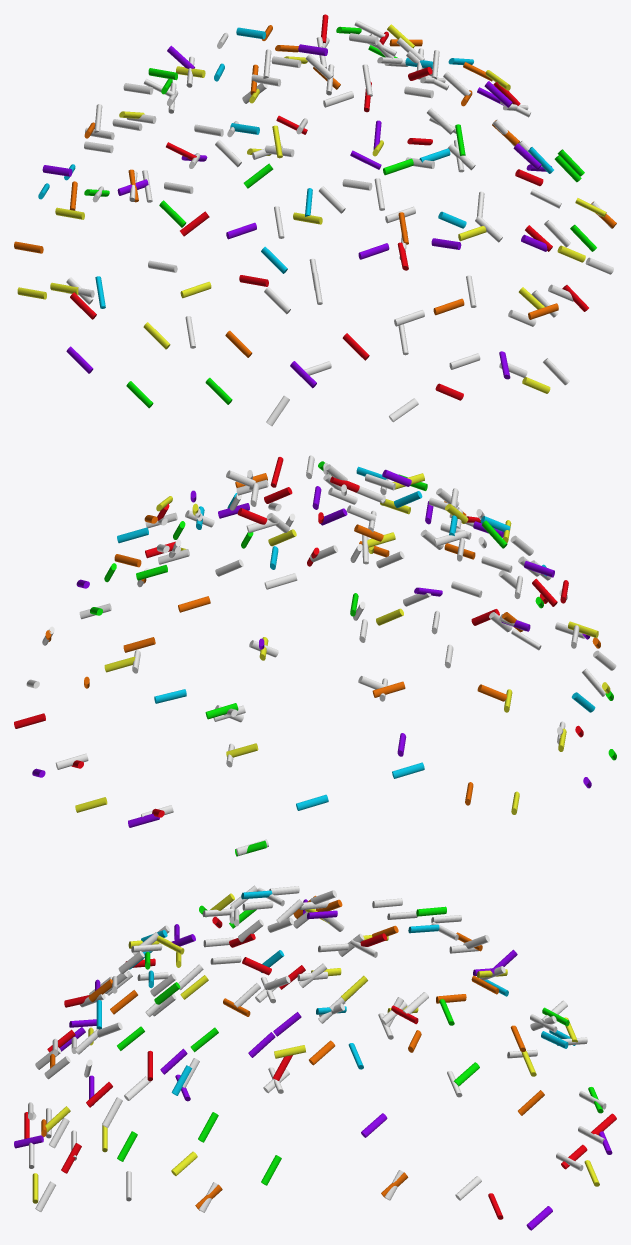
The model's file is sprinkles.gltf.
3 views of the same model, one above another, from view 1: azimuth 30°, elevation 25°; view 2: azimuth 150°, elevation 25°; view 3: azimuth 270°, elevation 25° (orthographic). The views are drawn at different scales.
Size of the model in its own units: 1.14 by 0.5788 by 1.23.
